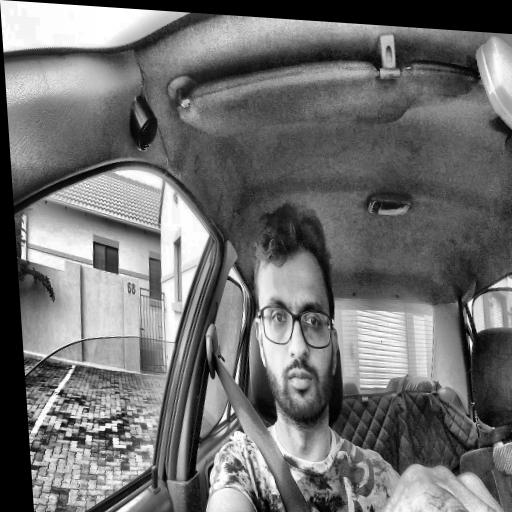awake: (246, 200, 345, 433)
